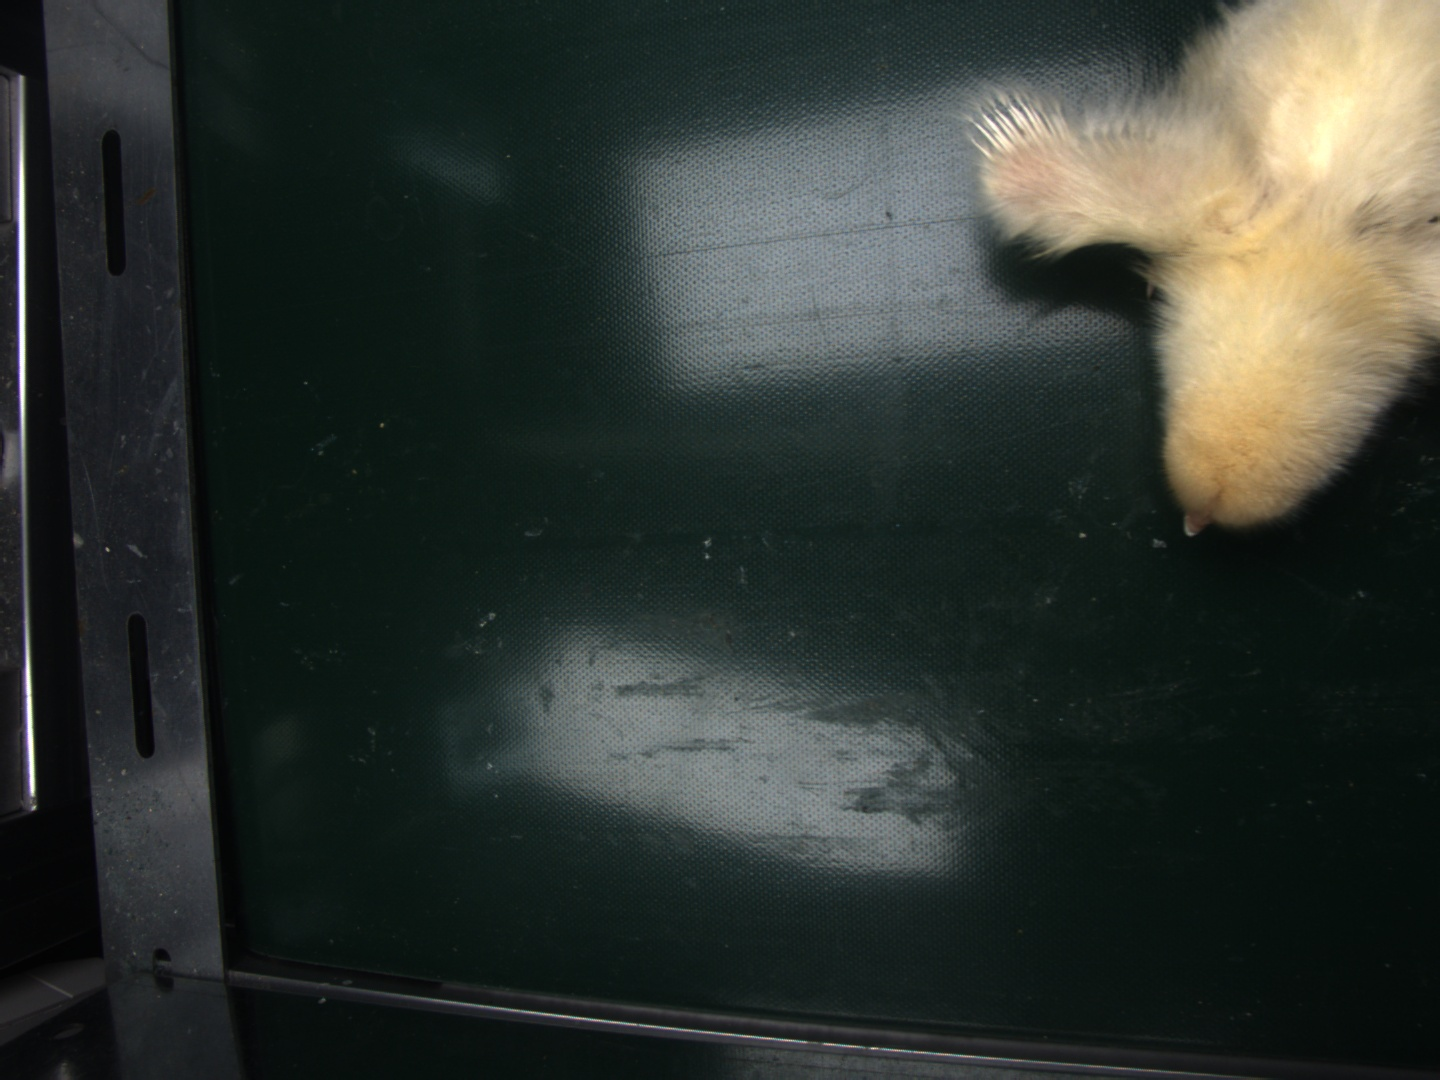male: (973, 98, 1057, 157)
